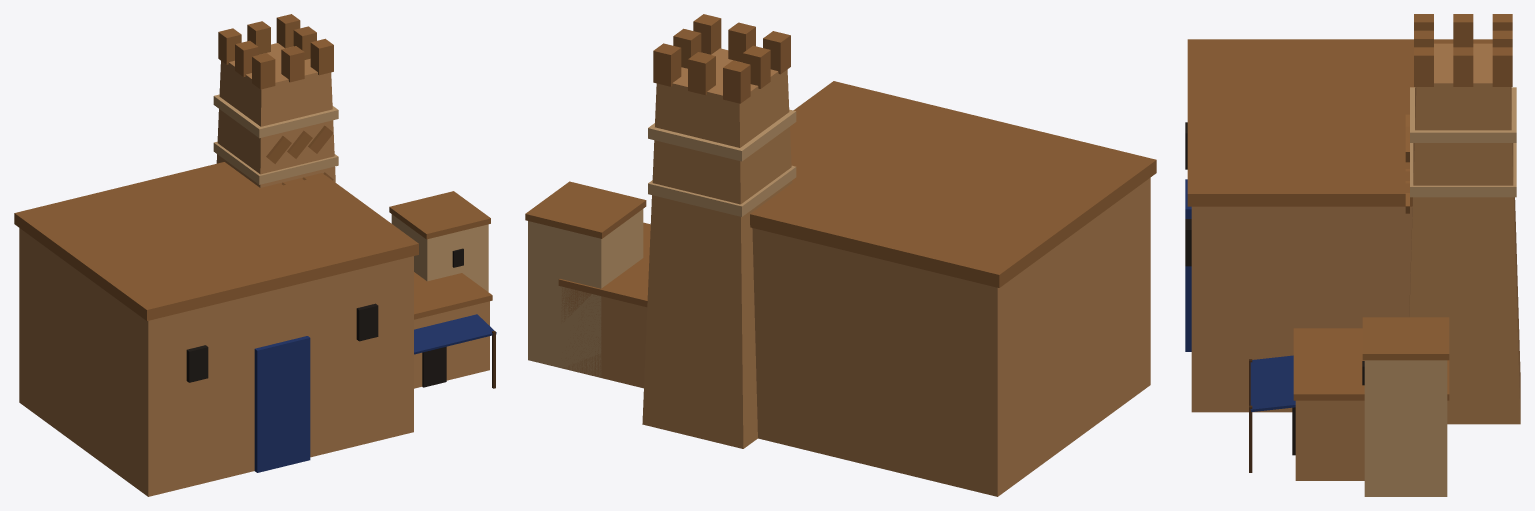
File: fennec_hall_broken.glb
3 renders of one model, left to right at view 1: azimuth 30°, elevation 25°; view 2: azimuth 150°, elevation 25°; view 3: azimuth 270°, elevation 25°, orthographic. The views are drawn at different scales.
Visible parts, largest first — view 1: fennec_hall_piece5, fennec_hall_piece2, fennec_hall_piece7, fennec_hall_piece3, fennec_hall_piece0, fennec_hall_piece10, fennec_hall_piece4, fennec_hall_piece6, fennec_hall_piece1, fennec_hall_piece9, fennec_hall_piece8; view 2: fennec_hall_piece5, fennec_hall_piece1, fennec_hall_piece6, fennec_hall_piece0, fennec_hall_piece11, fennec_hall_piece7, fennec_hall_piece13, fennec_hall_piece2, fennec_hall_piece3, fennec_hall_piece4, fennec_hall_piece9, fennec_hall_piece10 (+1 smaller); view 3: fennec_hall_piece0, fennec_hall_piece1, fennec_hall_piece3, fennec_hall_piece5, fennec_hall_piece2, fennec_hall_piece10, fennec_hall_piece9, fennec_hall_piece7, fennec_hall_piece13, fennec_hall_piece6, fennec_hall_piece8.
Part boxes in pixels (bbox=[...]): fennec_hall_piece5: bbox=[14, 215, 235, 472]; fennec_hall_piece2: bbox=[141, 245, 388, 465]; fennec_hall_piece7: bbox=[141, 45, 343, 203]; fennec_hall_piece3: bbox=[217, 222, 496, 388]; fennec_hall_piece0: bbox=[246, 188, 492, 352]; fennec_hall_piece10: bbox=[276, 251, 413, 437]; fennec_hall_piece4: bbox=[115, 394, 286, 496]; fennec_hall_piece6: bbox=[14, 182, 299, 223]; fennec_hall_piece1: bbox=[188, 17, 392, 222]; fennec_hall_piece9: bbox=[279, 14, 448, 221]; fennec_hall_piece8: bbox=[215, 230, 418, 388]; fennec_hall_piece5: bbox=[821, 164, 1154, 496]; fennec_hall_piece1: bbox=[599, 46, 793, 437]; fennec_hall_piece6: bbox=[759, 156, 1002, 440]; fennec_hall_piece0: bbox=[525, 98, 886, 356]; fennec_hall_piece11: bbox=[699, 190, 825, 448]; fennec_hall_piece7: bbox=[706, 14, 848, 285]; fennec_hall_piece13: bbox=[528, 285, 759, 438]; fennec_hall_piece2: bbox=[920, 122, 1156, 174]; fennec_hall_piece3: bbox=[810, 81, 934, 181]; fennec_hall_piece4: bbox=[766, 353, 1150, 469]; fennec_hall_piece9: bbox=[530, 14, 731, 249]; fennec_hall_piece10: bbox=[925, 106, 1002, 129]; fennec_hall_piece0: bbox=[1234, 132, 1449, 496]; fennec_hall_piece1: bbox=[1405, 14, 1520, 424]; fennec_hall_piece3: bbox=[1185, 120, 1354, 480]; fennec_hall_piece5: bbox=[1200, 39, 1488, 123]; fennec_hall_piece2: bbox=[1185, 39, 1296, 412]; fennec_hall_piece10: bbox=[1185, 113, 1271, 412]; fennec_hall_piece9: bbox=[1405, 41, 1512, 351]; fennec_hall_piece7: bbox=[1351, 14, 1465, 252]; fennec_hall_piece13: bbox=[1405, 292, 1513, 496]; fennec_hall_piece6: bbox=[1336, 39, 1492, 165]; fennec_hall_piece8: bbox=[1257, 104, 1326, 412].
Bounding box in the file's own units: 5.72 × 4.09 × 3.4.
